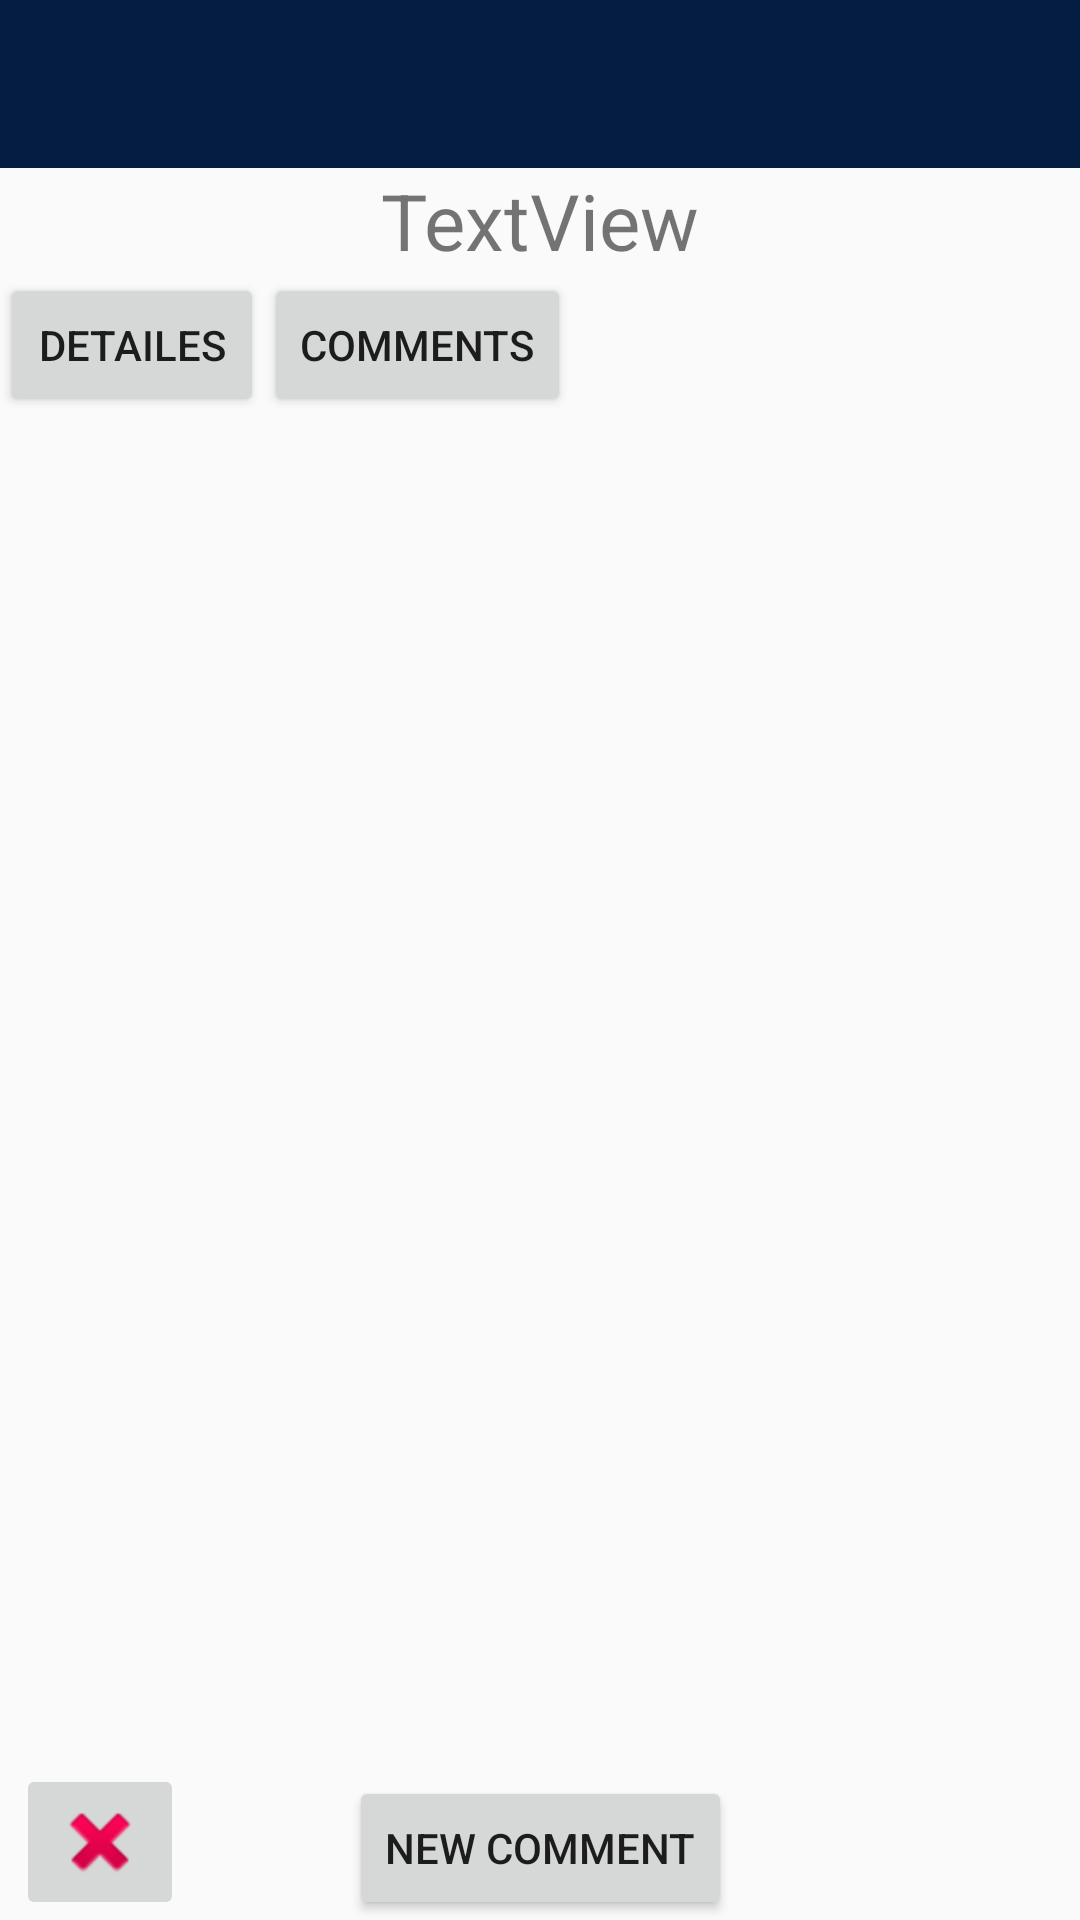

Where icons sit on this 1080x1920 app screen, as (x1, y1, x2, y2):
delete: (28, 1782, 172, 1902)
